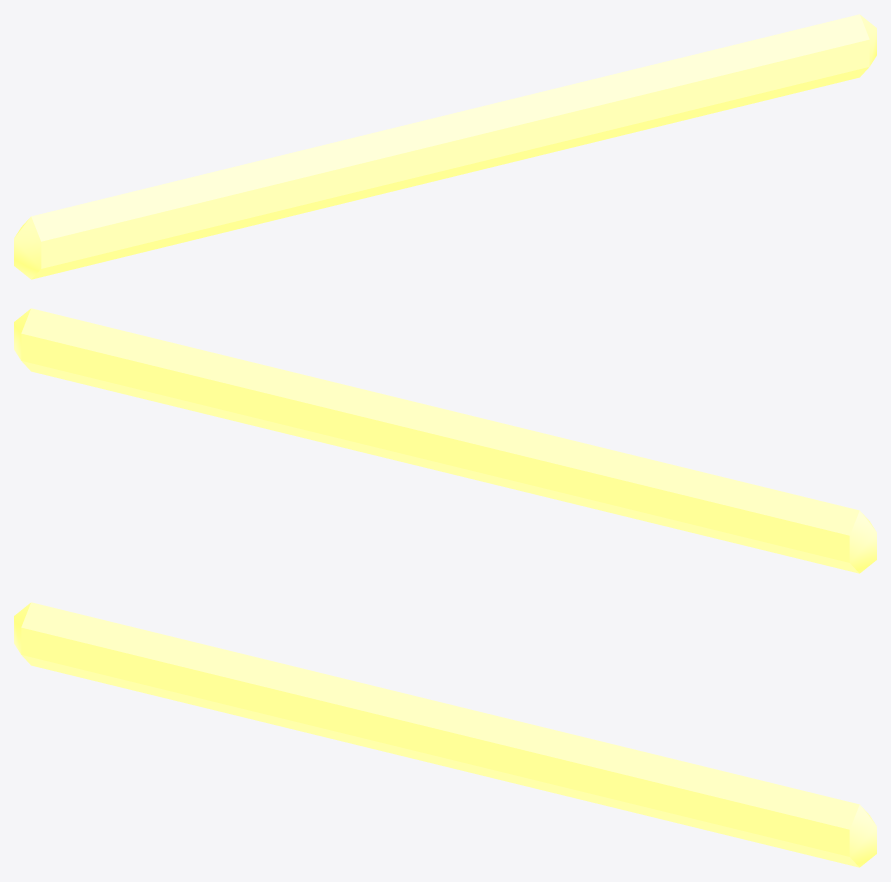
File: kr_bar_amber.glb
3 renders of one model, top to bottom at view 1: azimuth 30°, elevation 25°; view 2: azimuth 150°, elevation 25°; view 3: azimuth 330°, elevation 25°, orthographic.
Visible parts, largest first — view 1: kr_bar_amber_neonamber; view 2: kr_bar_amber_neonamber; view 3: kr_bar_amber_neonamber.
Boxes of the visible parts, x1,y1,x2,y2 form: kr_bar_amber_neonamber: (14, 14, 876, 279); kr_bar_amber_neonamber: (14, 308, 876, 573); kr_bar_amber_neonamber: (14, 602, 876, 867).
Bounding box in the file's own units: 1 × 0.07 × 0.04.
